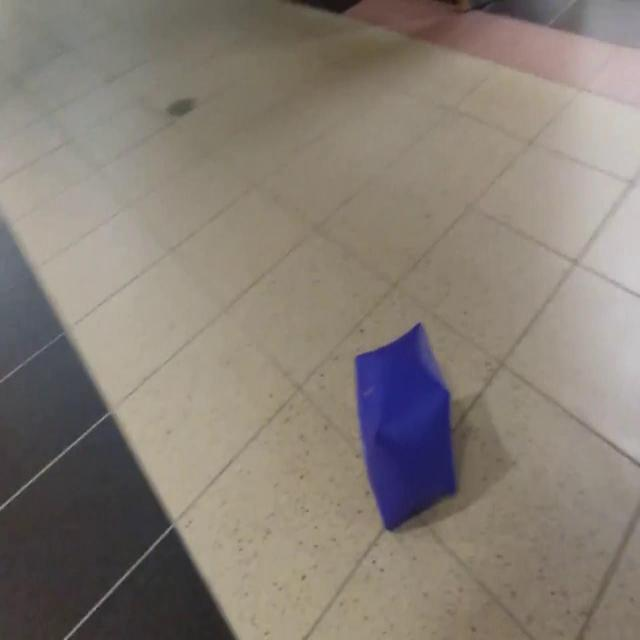frc_cube: (353, 319, 459, 534)
